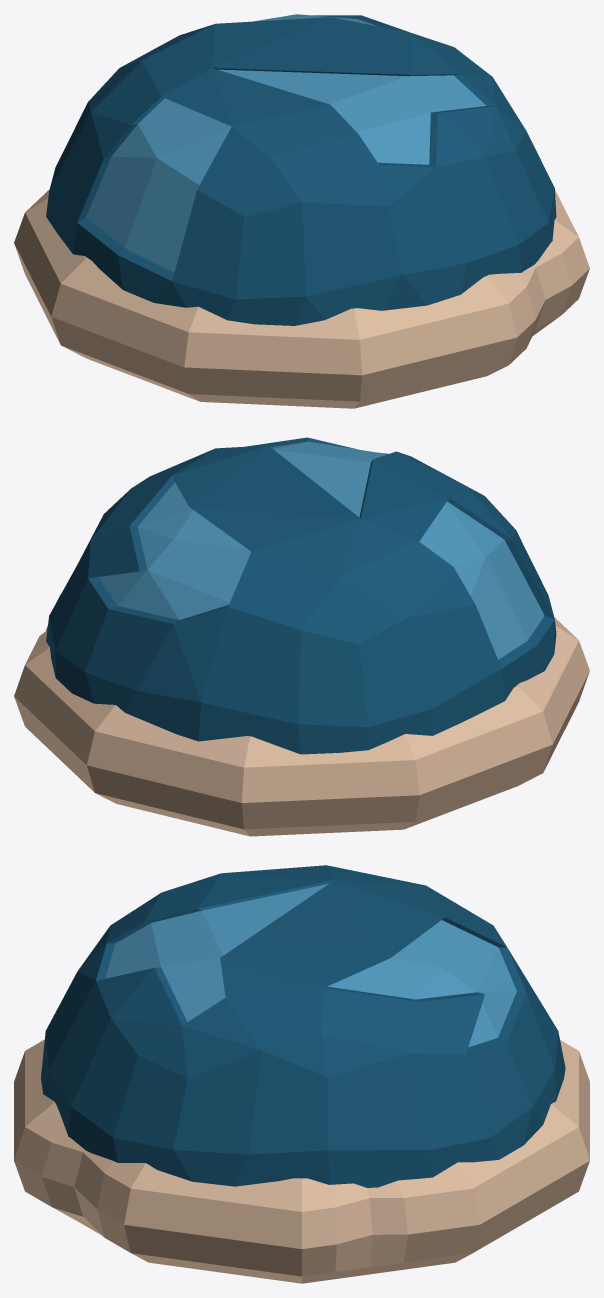
The model's file is shell.fbx.
3 renders of one model, top to bottom at view 1: azimuth 30°, elevation 25°; view 2: azimuth 150°, elevation 25°; view 3: azimuth 270°, elevation 25°, orthographic. The views are drawn at different scales.
Visible parts, largest first — view 1: Cube; view 2: Cube; view 3: Cube.
Boxes of the visible parts, x1,y1,x2,y2 form: Cube: (14,14,589,408); Cube: (14,437,589,836); Cube: (14,865,589,1283).
Size of the model in its own units: 191 by 88.79 by 181.
1 material, 1 textured.
